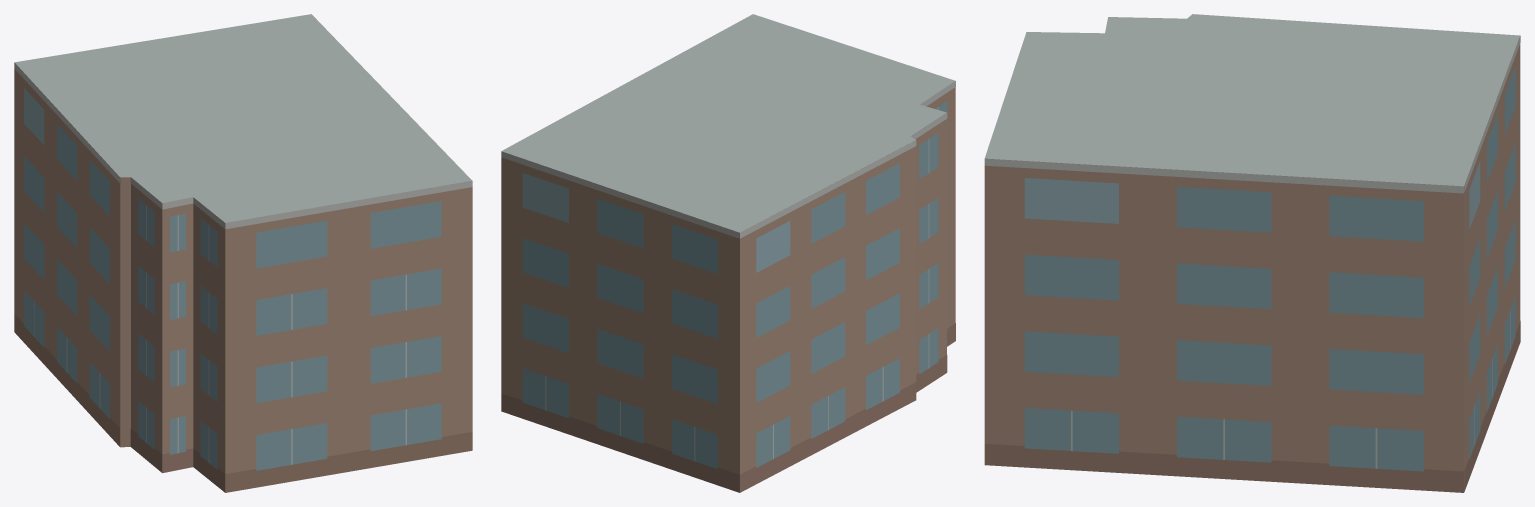
File: survey-upis-32479647.glb
3 views of the same model, side by side, from view 1: azimuth 30°, elevation 25°; view 2: azimuth 150°, elevation 25°; view 3: azimuth 270°, elevation 25° (orthographic). The views are drawn at different scales.
Parts seen in each view (by area): view 1: survey-upis-32479647.tmp; view 2: survey-upis-32479647.tmp; view 3: survey-upis-32479647.tmp.
Part boxes in pixels (left/top/right/bottom): survey-upis-32479647.tmp: left=14, top=14, right=472, bottom=492; survey-upis-32479647.tmp: left=501, top=14, right=955, bottom=492; survey-upis-32479647.tmp: left=984, top=14, right=1520, bottom=492.
Bounding box in the file's own units: 12.67 × 10.5 × 16.65.
